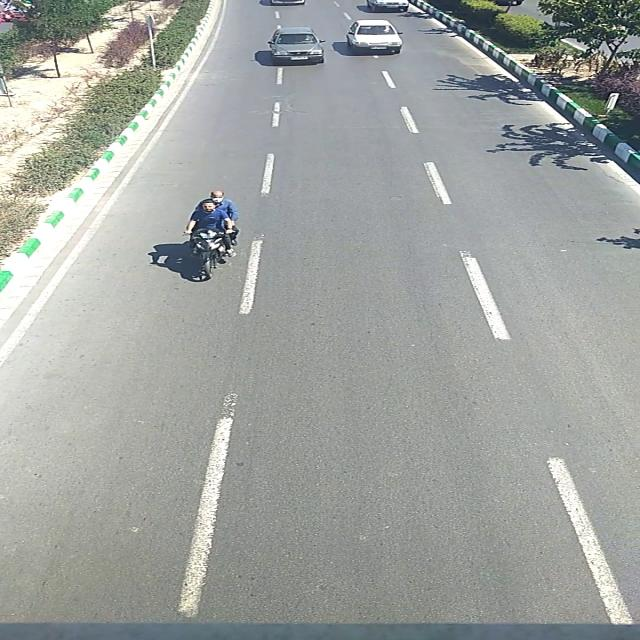car: (348, 19, 406, 53), (268, 28, 326, 62), (366, 1, 409, 11)
motorbike: (183, 192, 242, 280)
